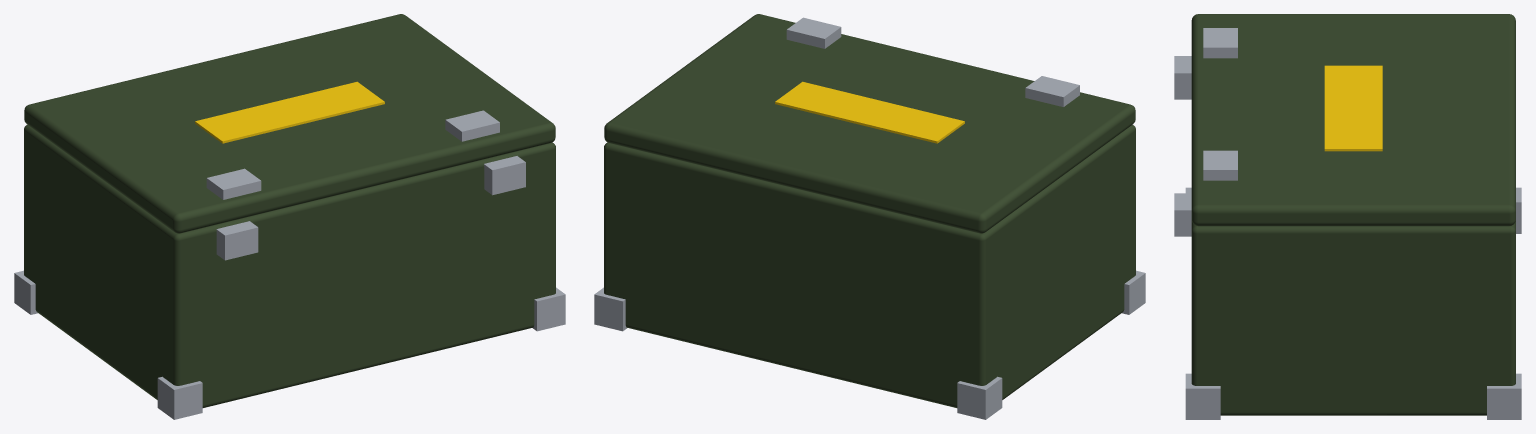
Rendered from seismometer_crate.glb.
3 views of the same model, side by side, from view 1: azimuth 30°, elevation 25°; view 2: azimuth 150°, elevation 25°; view 3: azimuth 270°, elevation 25° (orthographic). The views are drawn at different scales.
Visible parts, largest first — view 1: Crate_Body, Lid; view 2: Crate_Body, Lid; view 3: Lid, Crate_Body.
Part boxes in pixels (bbox=[...]): Crate_Body: bbox=[14, 125, 565, 419]; Lid: bbox=[24, 14, 555, 233]; Crate_Body: bbox=[594, 125, 1145, 419]; Lid: bbox=[604, 14, 1135, 233]; Lid: bbox=[1191, 14, 1515, 226]; Crate_Body: bbox=[1174, 56, 1521, 419].
Bounding box in the file's own units: 0.82 × 0.42 × 0.6.
